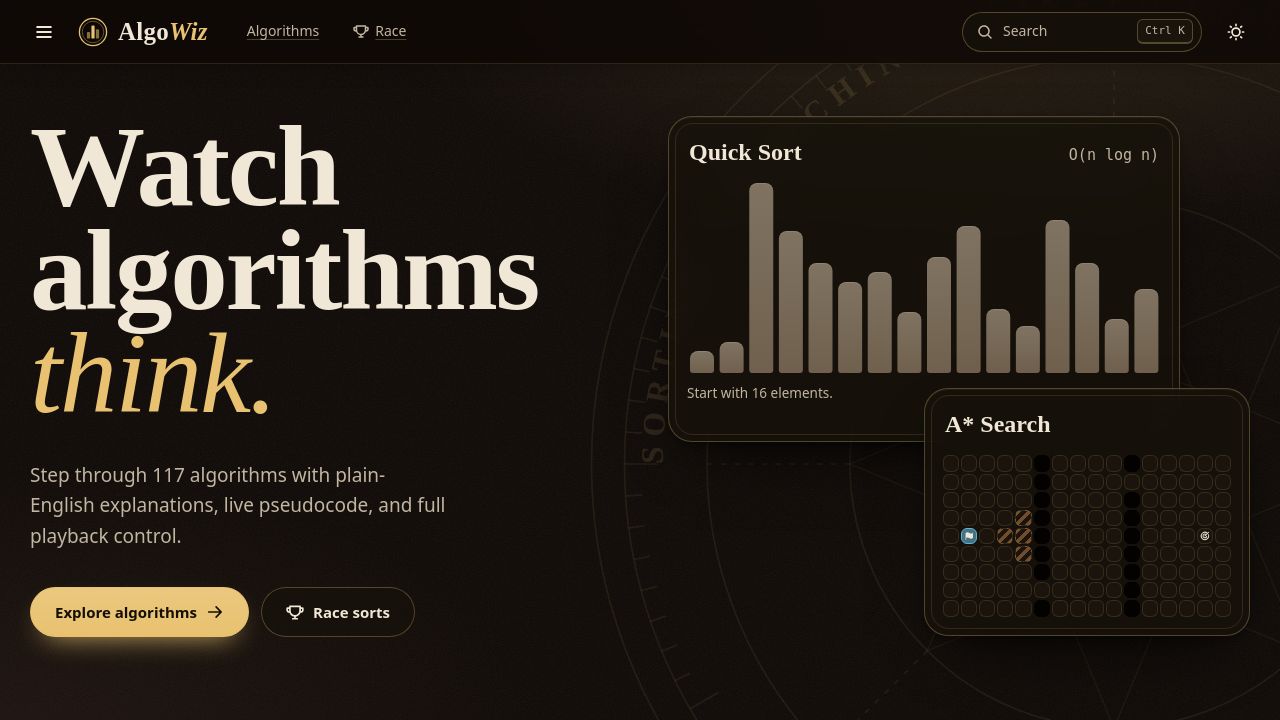
Test: search palette › explains an empty result
Press /
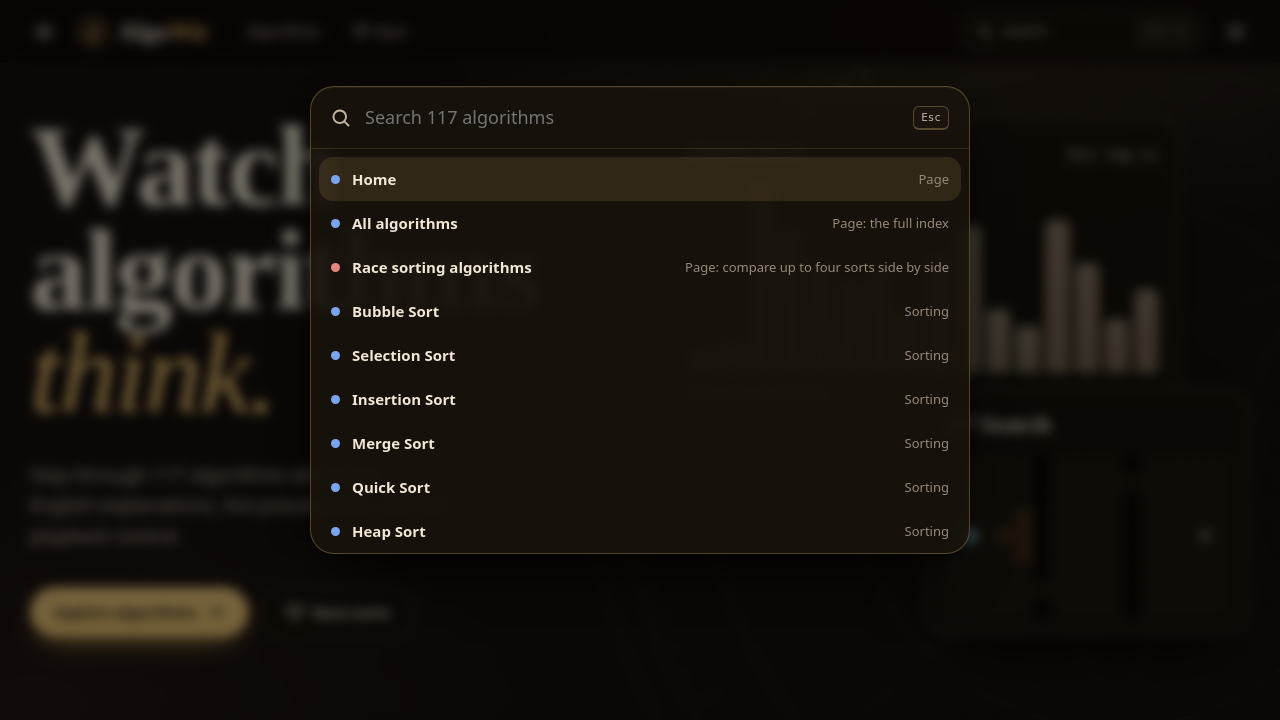
Type "zzzz" into the dropdown named "Search algorithms" at (632, 118), box [363,102,901,133]
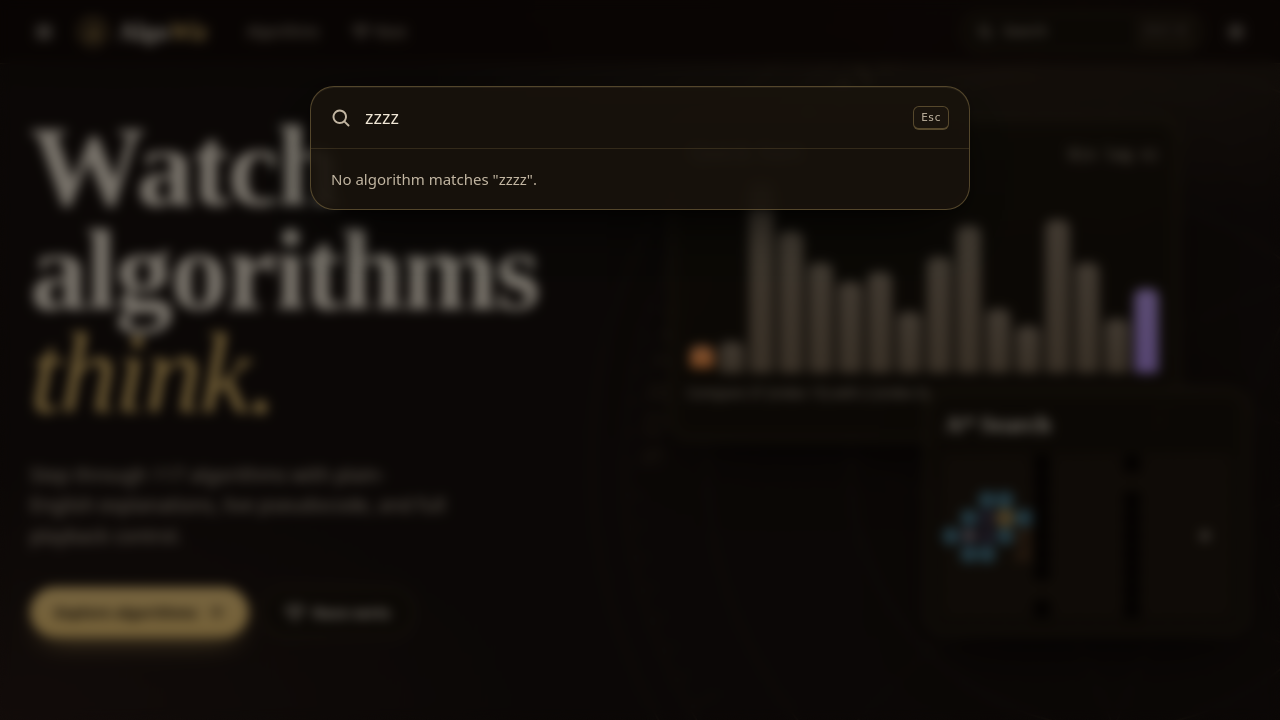
Check: the list item "No algorithm matches \"zzzz\"." is shown, box [331,169,537,189]
